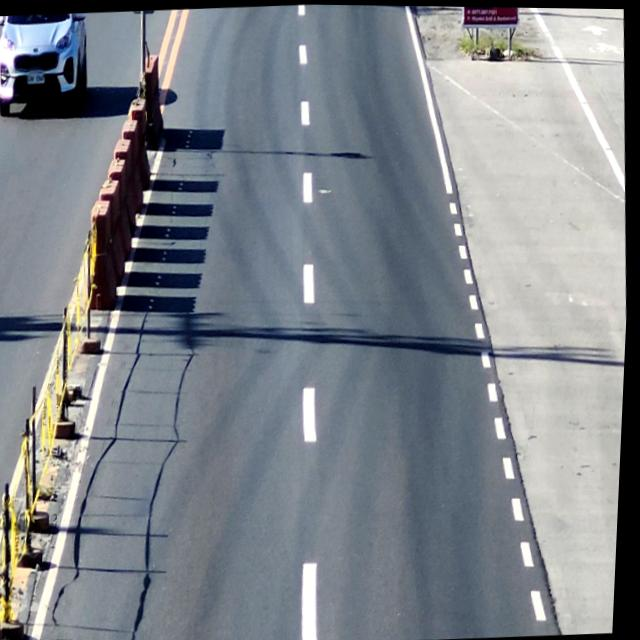License-Plate: (27, 69, 47, 88)
